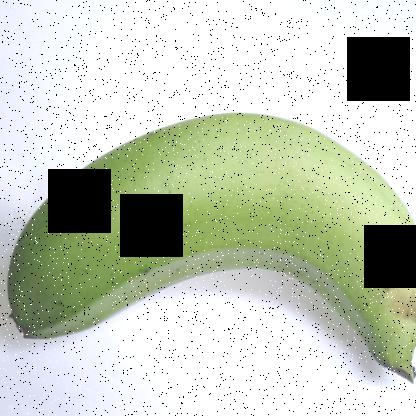freshunripe: (2, 106, 416, 404)
